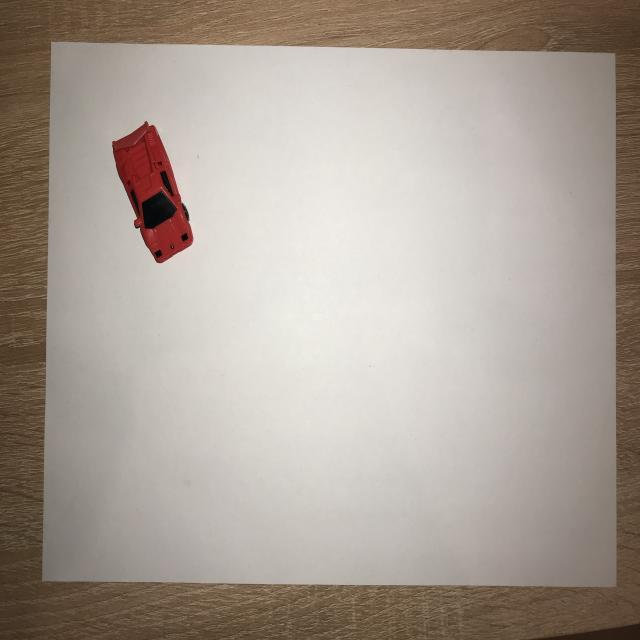car: (105, 118, 202, 271)
